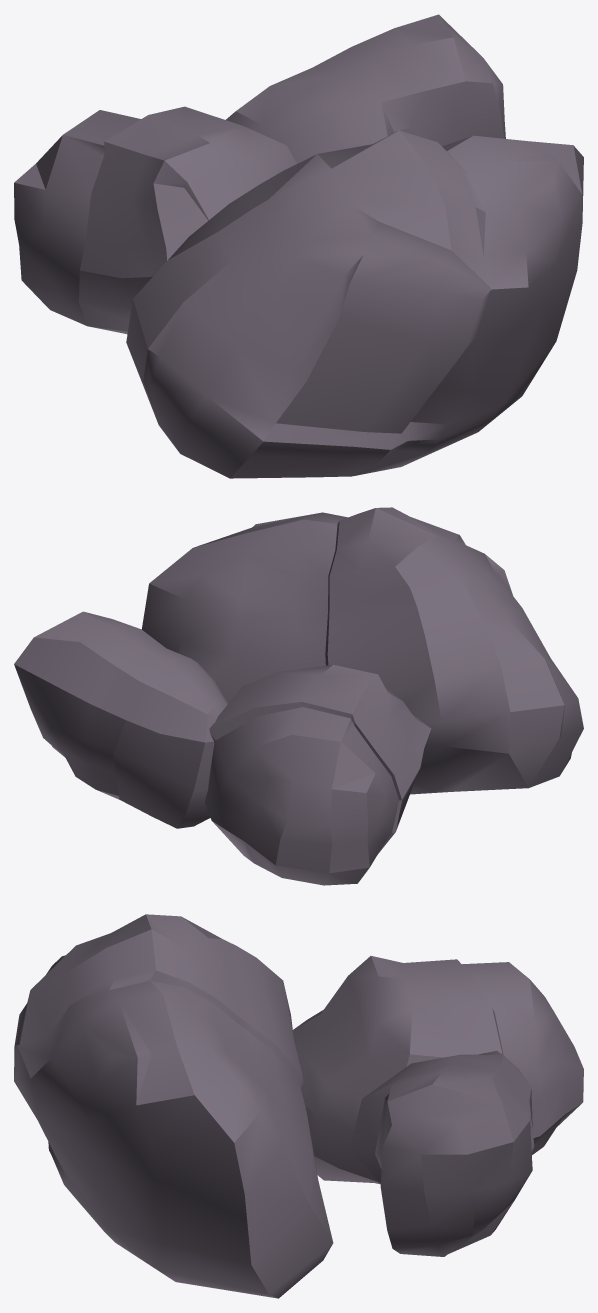
File: P_stone_11.fbx
3 views of the same model, one above another, from view 1: azimuth 30°, elevation 25°; view 2: azimuth 150°, elevation 25°; view 3: azimuth 270°, elevation 25° (orthographic). The views are drawn at different scales.
Parts seen in each view (by area): view 1: lod1; view 2: lod1; view 3: lod1.
Part boxes in pixels (box(x1,y1,x2,y2)): lod1: box(14, 14, 583, 478); lod1: box(14, 507, 583, 885); lod1: box(14, 914, 583, 1298).
Size of what is drawn, in the model's own units: 119 by 74.99 by 127.
3 materials, 3 textured.
